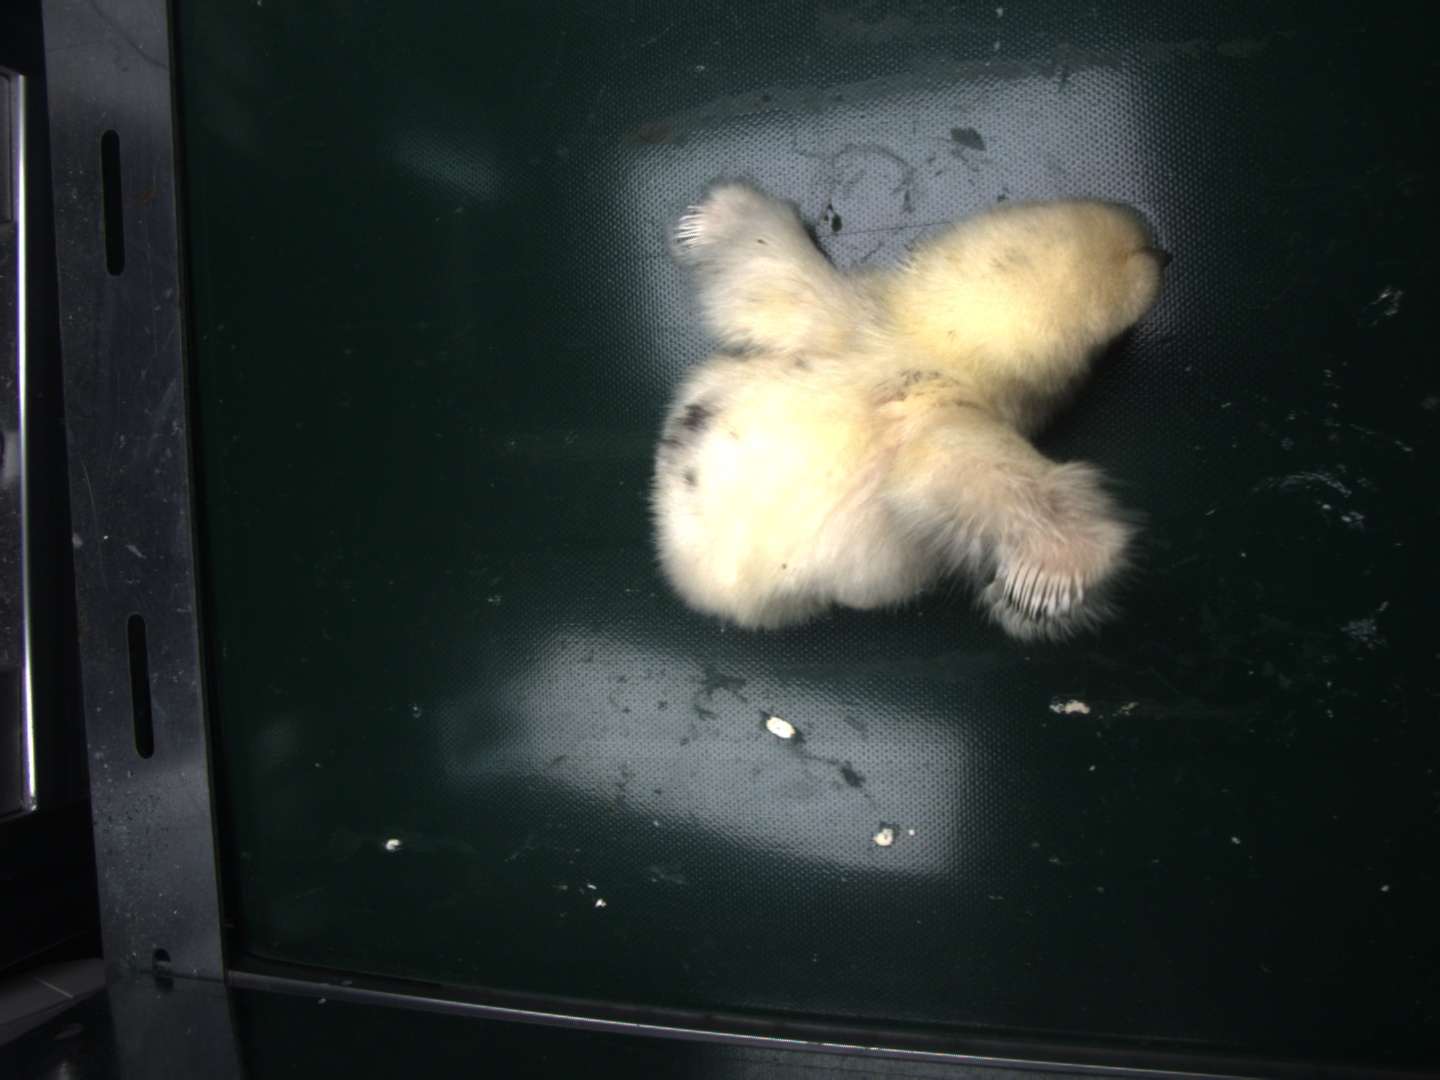male: (1001, 552, 1090, 622)
